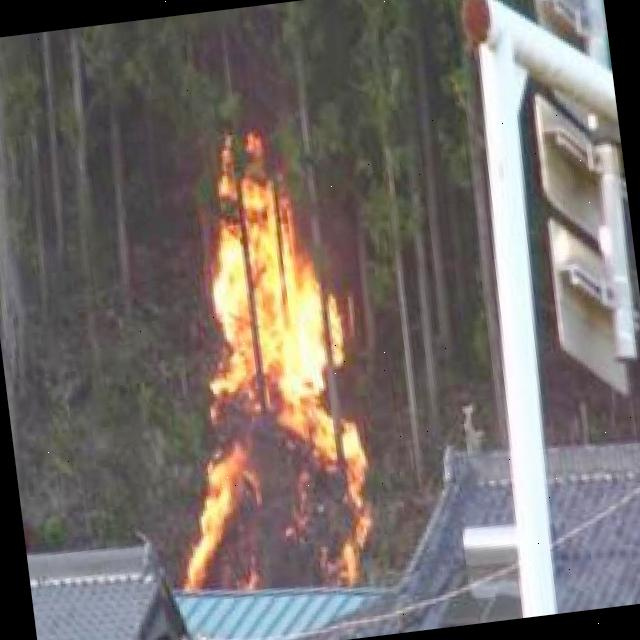fire: (140, 150, 380, 606)
